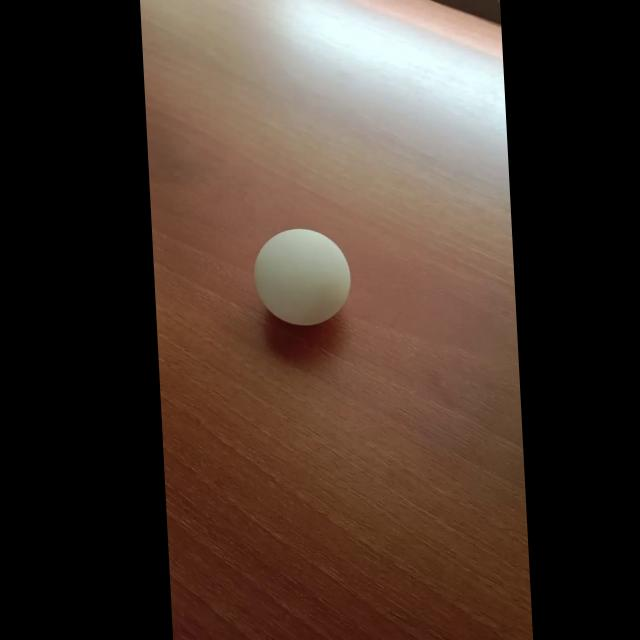white ball: (251, 228, 353, 326)
